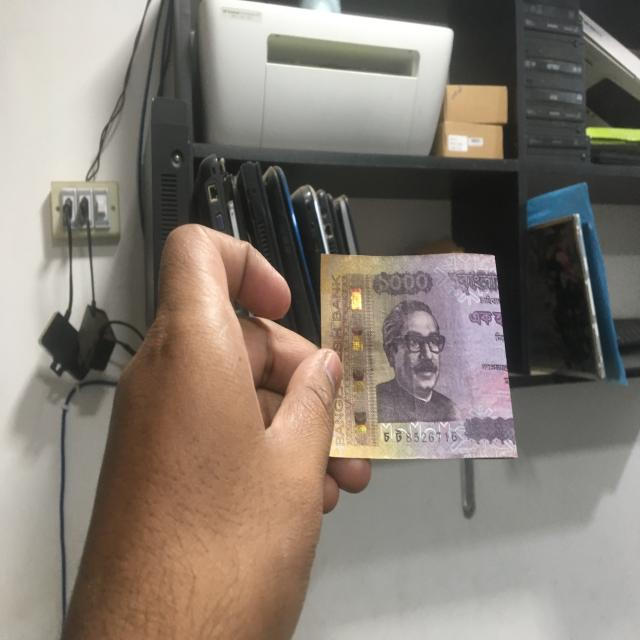Taka: (320, 248, 514, 467)
